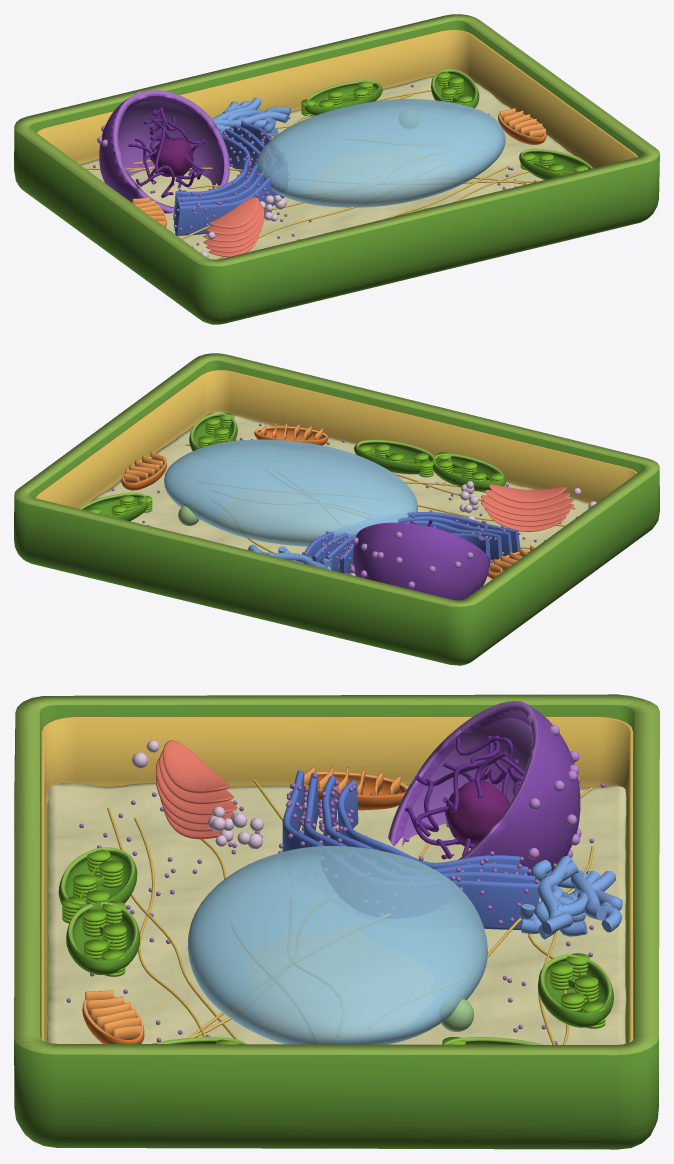
File: plant.glb
3 renders of one model, top to bottom at view 1: azimuth 30°, elevation 25°; view 2: azimuth 150°, elevation 25°; view 3: azimuth 270°, elevation 25°, orthographic. The views are drawn at different scales.
Parts seen in each view (by area): view 1: wall, vacuole, membrane, cytosol, rough-er, nucleus_nucleoplasm, nucleus, cytoskeleton, golgi, nucleus_chromatin, smooth-er, nucleolus (+11 smaller); view 2: wall, membrane, vacuole, cytosol, nucleus, rough-er, golgi, chloroplast.003, cytoskeleton, chloroplast.005, chloroplast.001, mitochondrion.001 (+10 smaller); view 3: wall, cytosol, vacuole, membrane, rough-er, nucleus, smooth-er, golgi, cytoskeleton, nucleus_nucleoplasm, nucleus_chromatin, nucleolus (+15 smaller).
Boxes of the visible parts, box(x1,y1,x2,y2) form: wall: box(14, 14, 659, 324); vacuole: box(256, 99, 505, 207); membrane: box(36, 29, 637, 167); cytosol: box(80, 76, 581, 259); rough-er: box(173, 122, 287, 235); nucleus_nucleoplasm: box(118, 100, 219, 207); nucleus: box(99, 90, 229, 213); cytoskeleton: box(85, 89, 538, 259); golgi: box(203, 197, 264, 257); nucleus_chromatin: box(128, 107, 206, 197); smooth-er: box(211, 97, 290, 136); nucleolus: box(151, 137, 193, 176); wall: box(14, 353, 659, 665); membrane: box(35, 370, 637, 508); vacuole: box(164, 439, 417, 546); cytosol: box(90, 411, 588, 585); nucleus: box(353, 522, 489, 600); rough-er: box(303, 512, 520, 574); golgi: box(481, 484, 574, 531); chloroplast.003: box(354, 439, 437, 474); cytoskeleton: box(185, 434, 575, 552); chloroplast.005: box(431, 453, 505, 491); chloroplast.001: box(79, 492, 148, 521); mitochondrion.001: box(254, 426, 328, 445); wall: box(14, 694, 659, 1149); cytosol: box(47, 783, 626, 1044); vacuole: box(187, 846, 487, 1044); membrane: box(40, 716, 633, 1042); rough-er: box(282, 770, 539, 929); nucleus: box(388, 701, 580, 875); smooth-er: box(518, 856, 622, 939); golgi: box(156, 740, 237, 839); cytoskeleton: box(107, 780, 593, 1044); nucleus_nucleoplasm: box(402, 718, 532, 846); nucleus_chromatin: box(405, 735, 524, 859); nucleolus: box(445, 780, 509, 844).
Size of the model in its own units: 8.21 by 1.97 by 6.21.
